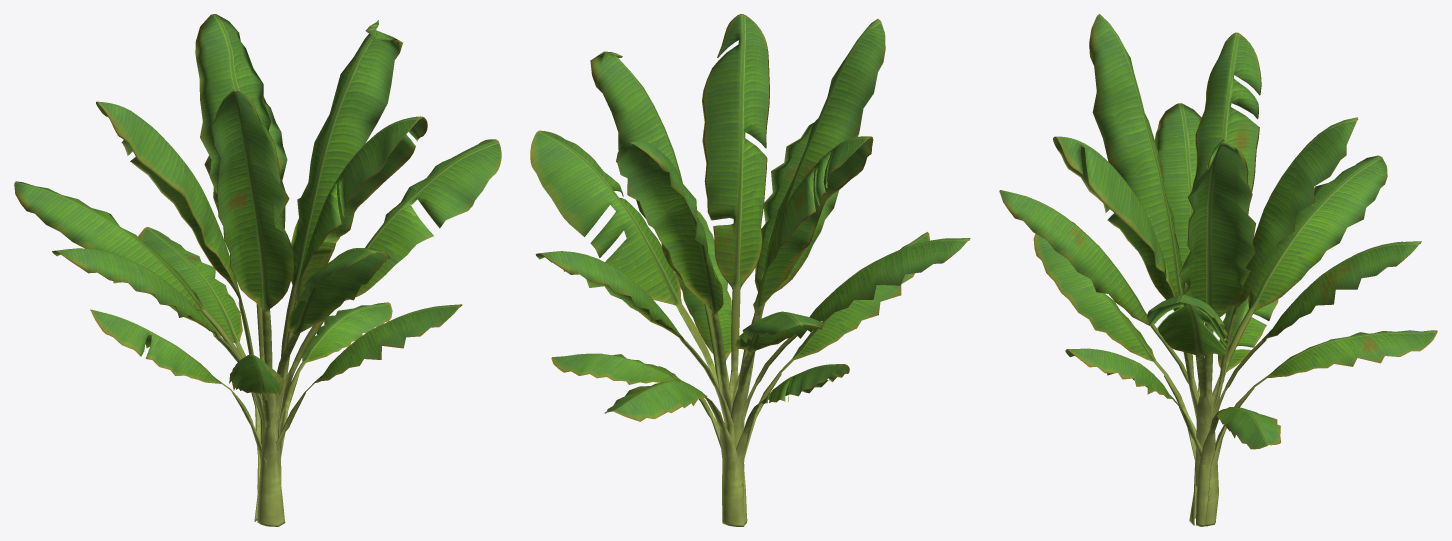
Rendered from format1.dae.
3 views of the same model, side by side, from view 1: azimuth 30°, elevation 25°; view 2: azimuth 150°, elevation 25°; view 3: azimuth 270°, elevation 25° (orthographic). The views are drawn at different scales.
Parts seen in each view (by area): view 1: Plane; view 2: Plane; view 3: Plane.
Part boxes in pixels (left/top/right/bottom): Plane: left=14, top=14, right=501, bottom=526; Plane: left=530, top=14, right=970, bottom=526; Plane: left=999, top=14, right=1437, bottom=526.
Bounding box in the file's own units: 0.146 × 0.1336 × 0.1574.
